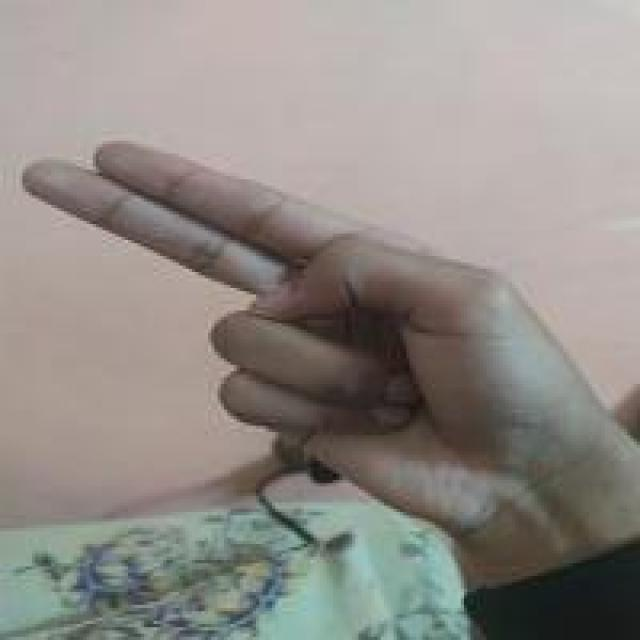H: (19, 138, 586, 538)
